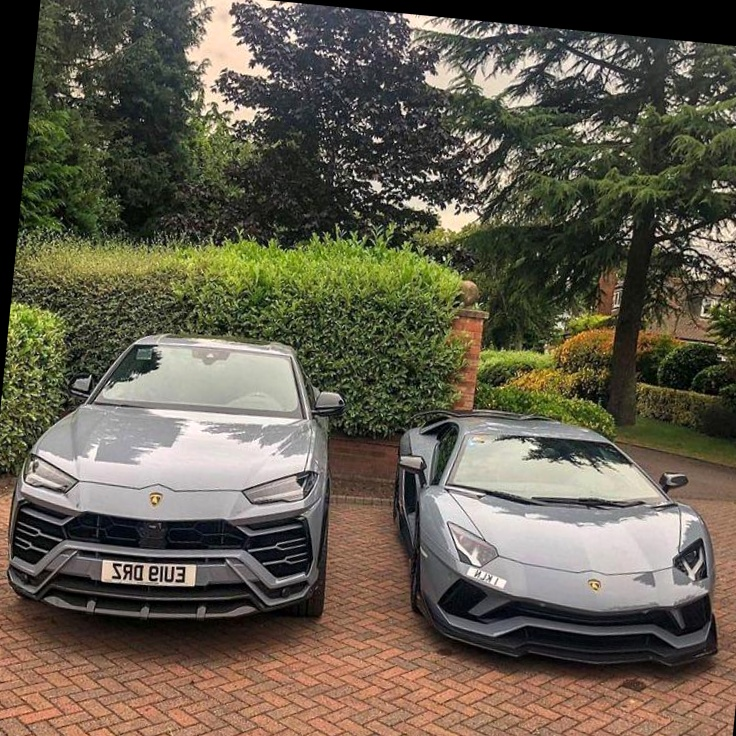car: (0, 287, 360, 721), (359, 330, 736, 736)
